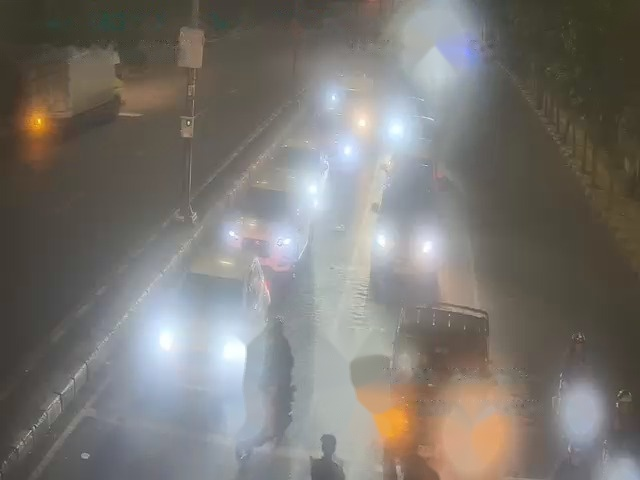Mobil: (389, 303, 489, 454), (168, 251, 266, 380), (369, 170, 439, 283), (234, 171, 301, 269), (276, 132, 322, 200)
Motor: (240, 387, 278, 460), (556, 388, 590, 433), (334, 140, 354, 171)
Truk: (33, 40, 122, 131)
